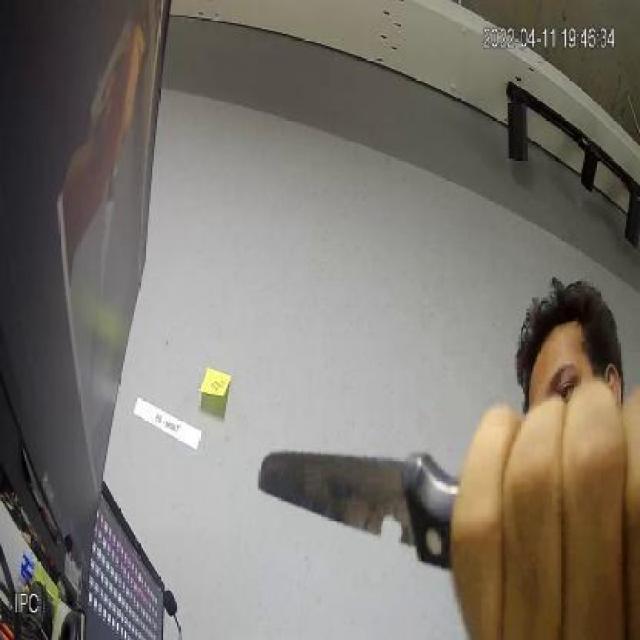-: (252, 432, 431, 563)
